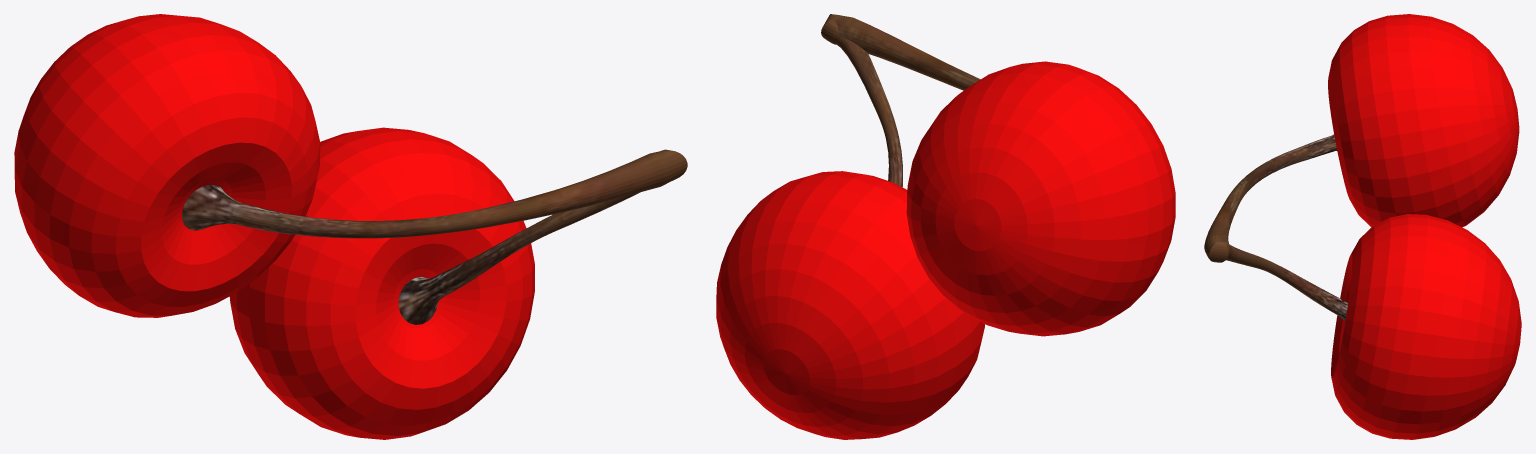
File: cherry.obj
The picture shows the model from 3 angles, left to right: view 1: azimuth 30°, elevation 25°; view 2: azimuth 150°, elevation 25°; view 3: azimuth 270°, elevation 25°; orthographic projection. The views are drawn at different scales.
Parts seen in each view (by area): view 1: cherry2, cherry1, cherrystem; view 2: cherry2, cherry1, cherrystem; view 3: cherry1, cherry2, cherrystem.
Part boxes in pixels (x1,y1,x2,y2): cherry2: (14,14,320,317); cherry1: (229,127,534,439); cherrystem: (182,149,687,324); cherry2: (906,61,1175,336); cherry1: (716,171,984,439); cherrystem: (821,14,980,187); cherry1: (1331,214,1521,439); cherry2: (1328,14,1519,227); cherrystem: (1204,134,1348,321).
Size of the model in its own units: 0.0872 by 0.0731 by 0.0641.
Materials: 2 (2 with a texture image).
